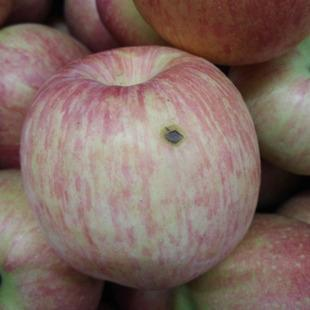apple: (19, 43, 264, 294)
